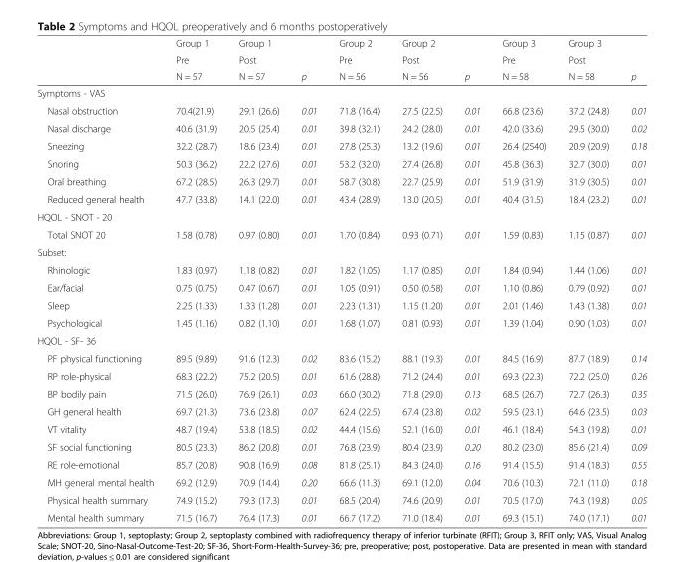table: (36, 37, 646, 523)
table column: (36, 37, 164, 523), (490, 37, 556, 523), (164, 37, 227, 523), (327, 37, 390, 523), (556, 37, 619, 523), (227, 37, 289, 523), (390, 37, 452, 523), (289, 37, 327, 523), (452, 37, 490, 523), (619, 37, 646, 523)
table column header: (36, 37, 646, 84)
table projected row header: (36, 207, 646, 225), (36, 331, 646, 349), (36, 84, 646, 101), (36, 243, 646, 260)
table row: (36, 101, 646, 119), (36, 136, 646, 154), (36, 154, 646, 172), (36, 172, 646, 190), (36, 207, 646, 225), (36, 225, 646, 243), (36, 260, 646, 278), (36, 278, 646, 296), (36, 313, 646, 331), (36, 331, 646, 349), (36, 349, 646, 367), (36, 384, 646, 402), (36, 402, 646, 420), (36, 437, 646, 455), (36, 455, 646, 473), (36, 490, 646, 508), (36, 67, 646, 84), (36, 84, 646, 101), (36, 119, 646, 136), (36, 190, 646, 207), (36, 243, 646, 260), (36, 296, 646, 313), (36, 367, 646, 384), (36, 420, 646, 437), (36, 473, 646, 490), (36, 51, 646, 67), (36, 508, 646, 523), (36, 37, 646, 51)
table spanning cell: (490, 37, 556, 84), (164, 37, 227, 84), (327, 37, 390, 84), (556, 37, 619, 84), (227, 37, 289, 84), (390, 37, 452, 84), (289, 37, 327, 84), (452, 37, 490, 84), (619, 37, 646, 84)
